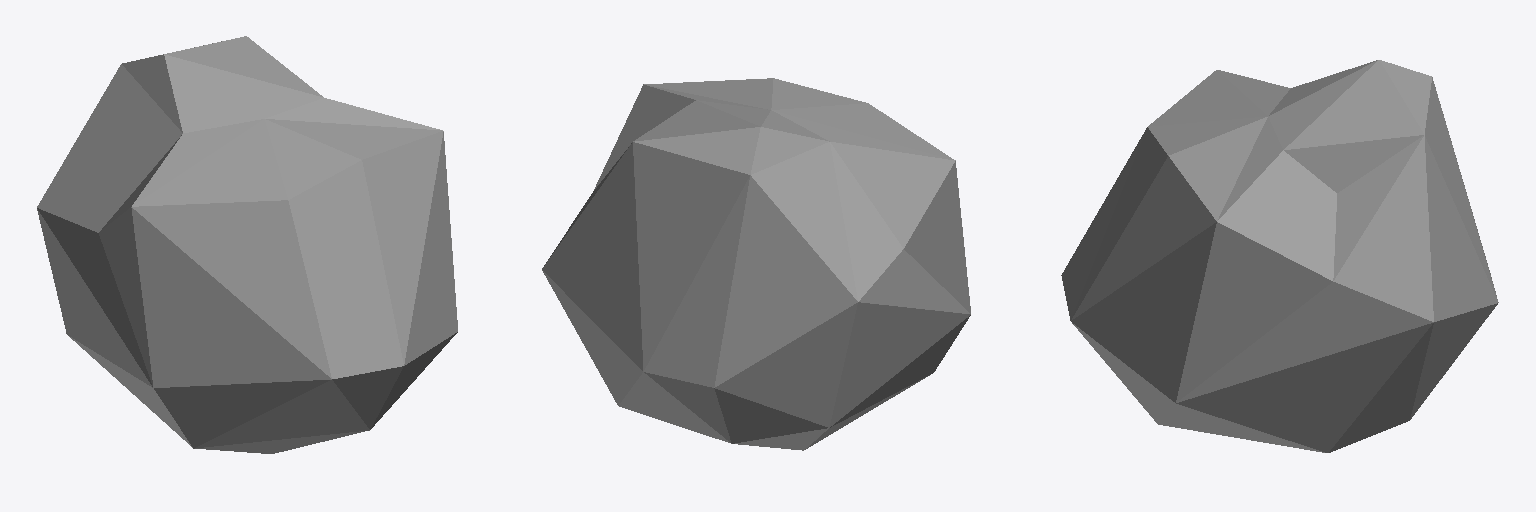
Rendered from Stein1.obj.
3 renders of one model, left to right at view 1: azimuth 30°, elevation 25°; view 2: azimuth 150°, elevation 25°; view 3: azimuth 270°, elevation 25°, orthographic.
Visible parts, largest first — view 1: Sphere; view 2: Sphere; view 3: Sphere.
Part boxes in pixels (x1,y1,x2,y2): Sphere: (37,36,457,453); Sphere: (542,78,970,450); Sphere: (1061,60,1498,452).
Size of the model in its own units: 2.16 by 2.33 by 2.62.